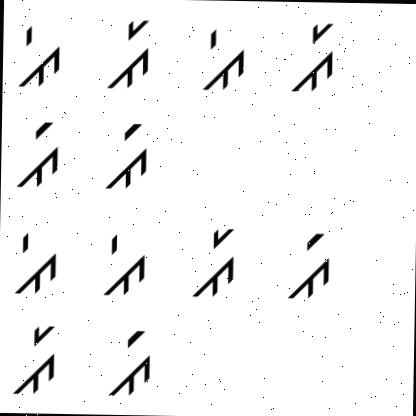kang: (95, 116, 156, 194), (103, 320, 161, 402), (10, 116, 61, 194), (285, 226, 334, 306)
kar: (104, 15, 160, 92), (10, 320, 61, 404), (287, 17, 338, 98), (193, 220, 241, 303)
ke: (15, 15, 69, 96), (97, 230, 157, 302), (197, 22, 251, 96), (10, 228, 64, 300)
